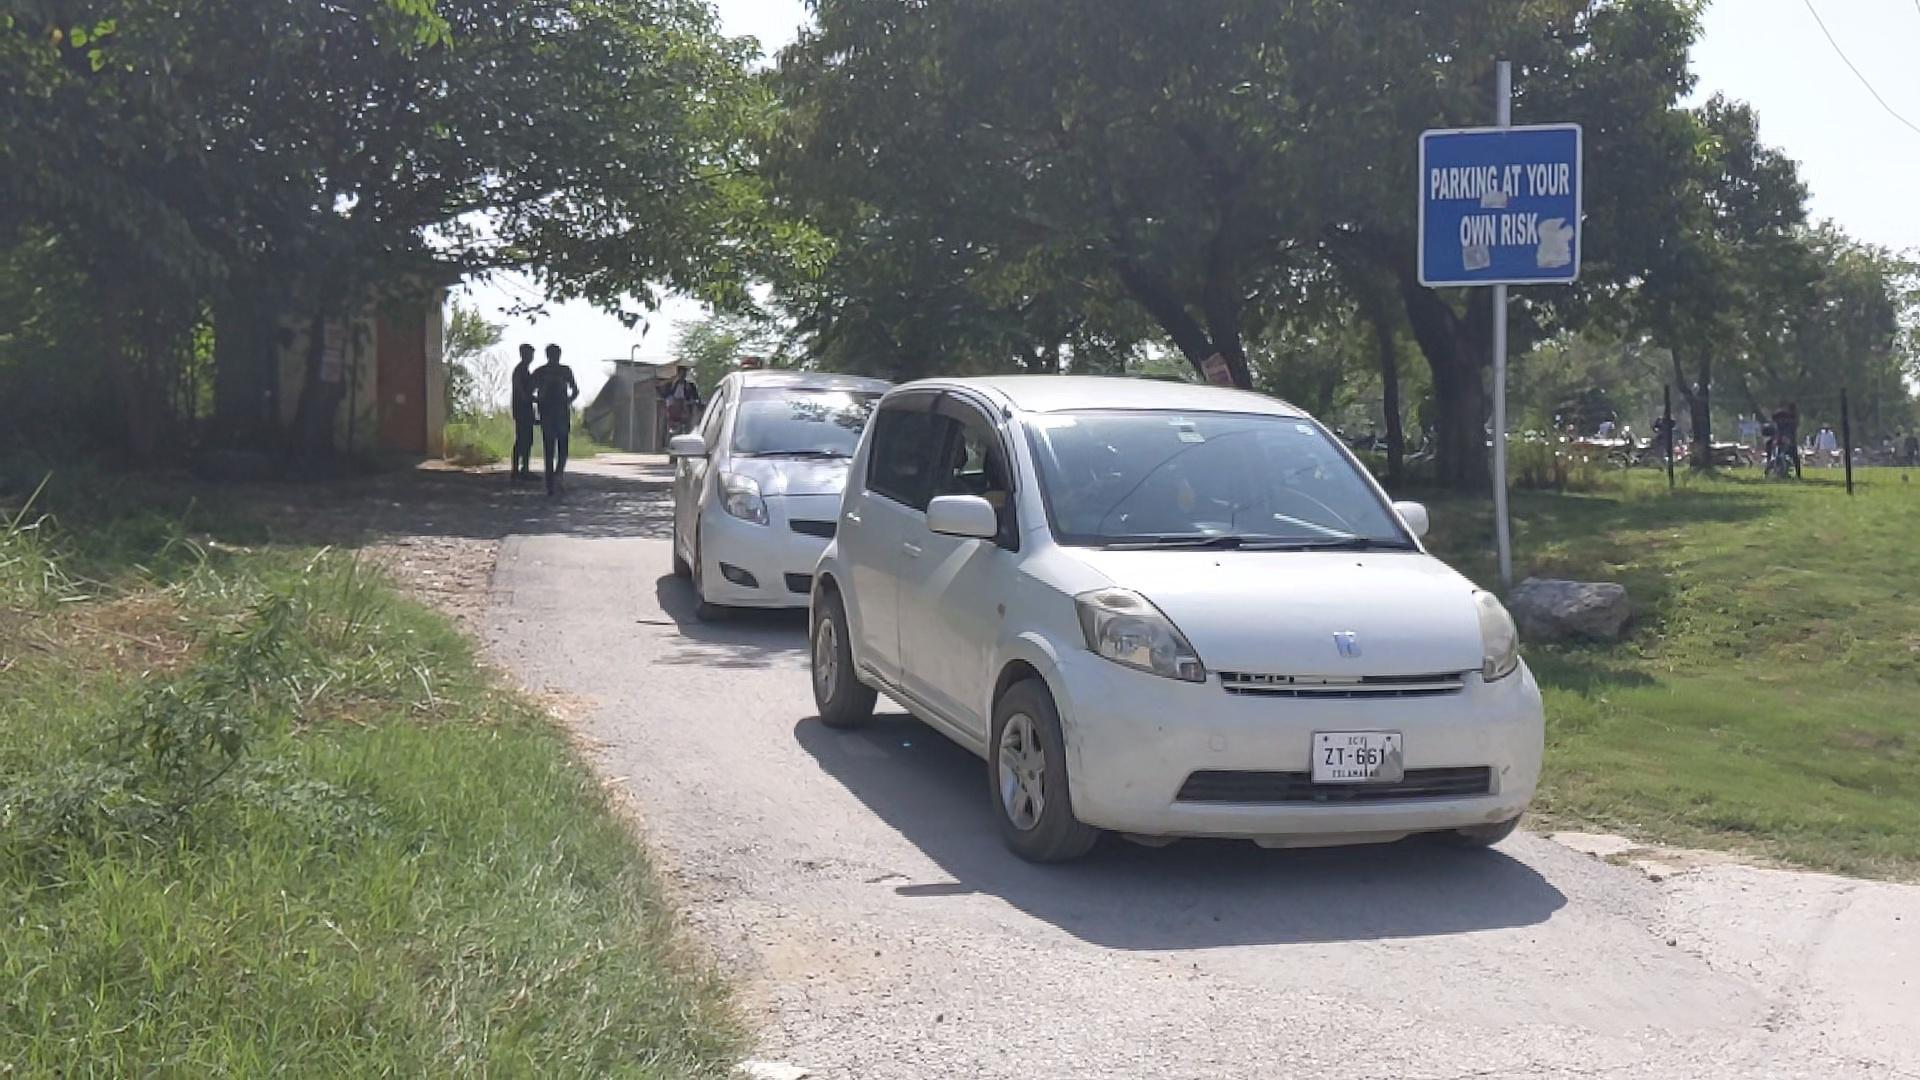windshield: (1018, 410, 1424, 563)
